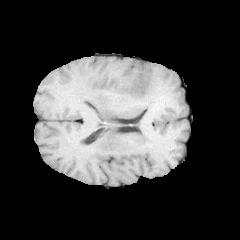glioma: (76, 61, 177, 140)
